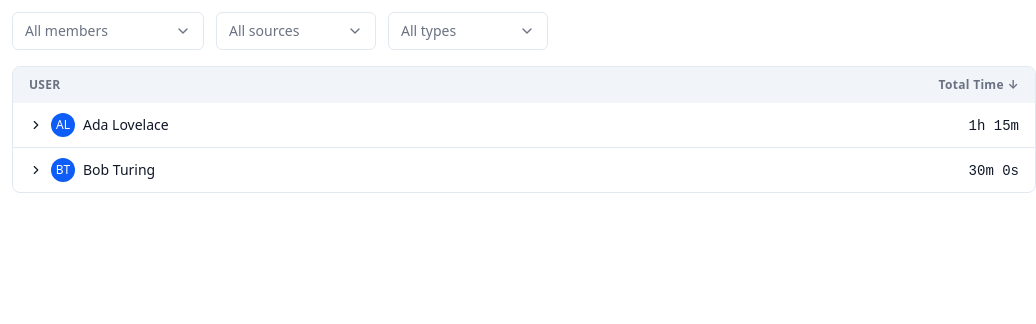
Test: MemberTimeReport (CR-06) › expands a member row into the per-ticket breakdown
Click the button "AL Ada Lovelace": (99, 125) [29,113,169,137]
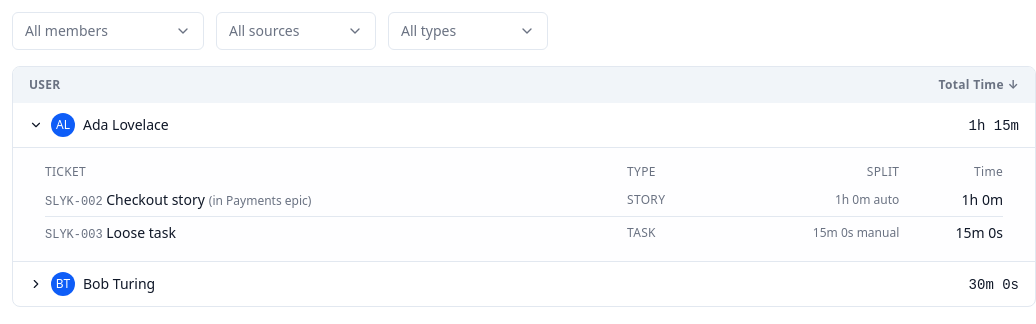
Now the text "Checkout story" is shown, box [106,190,205,209]
Now the text "Loose task" is shown, box [106,223,176,242]
Now the text "SLYK-002" is shown, box [45,195,103,209]
